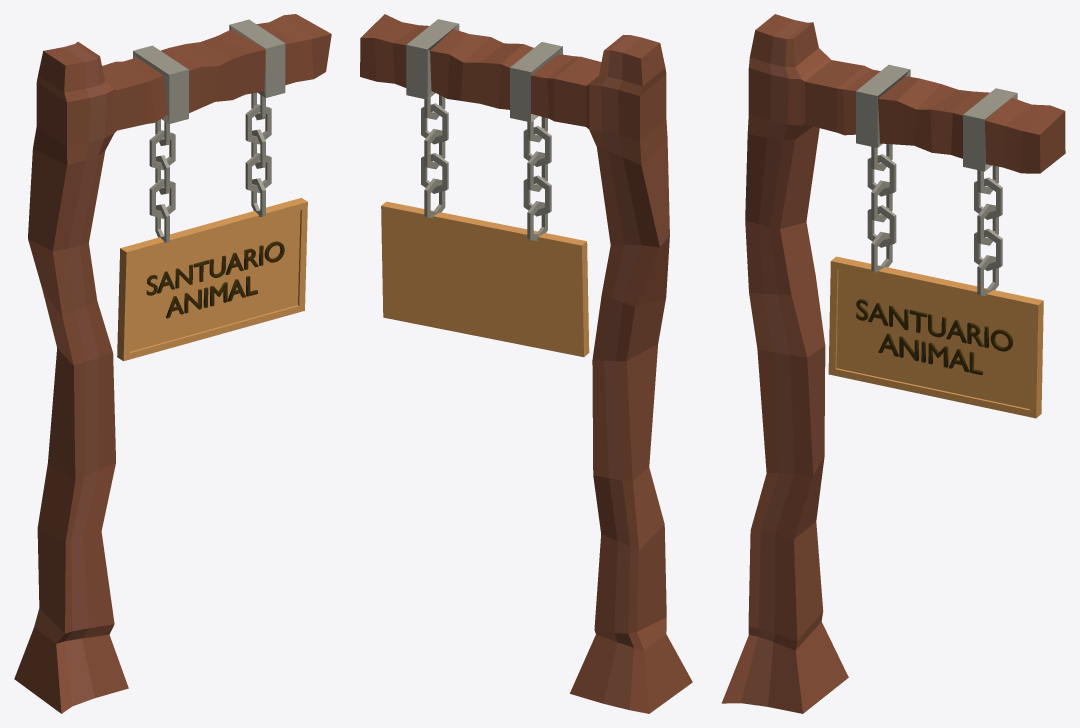
Rendered from cartel_isla_centralahorasi.fbx.
The picture shows the model from 3 angles, left to right: view 1: azimuth 30°, elevation 25°; view 2: azimuth 150°, elevation 25°; view 3: azimuth 330°, elevation 25°; orthographic projection. The views are drawn at different scales.
Parts seen in each view (by area): view 1: Cube.057, Text; view 2: Cube.057; view 3: Cube.057, Text.
Boxes of the visible parts, left/top/right/bottom form: Cube.057: left=14, top=14, right=331, bottom=713; Text: left=146, top=241, right=284, bottom=318; Cube.057: left=360, top=14, right=692, bottom=713; Cube.057: left=721, top=14, right=1065, bottom=713; Text: left=856, top=299, right=1013, bottom=375.
Bounding box in the file's own units: 298 × 624 × 88.35.
